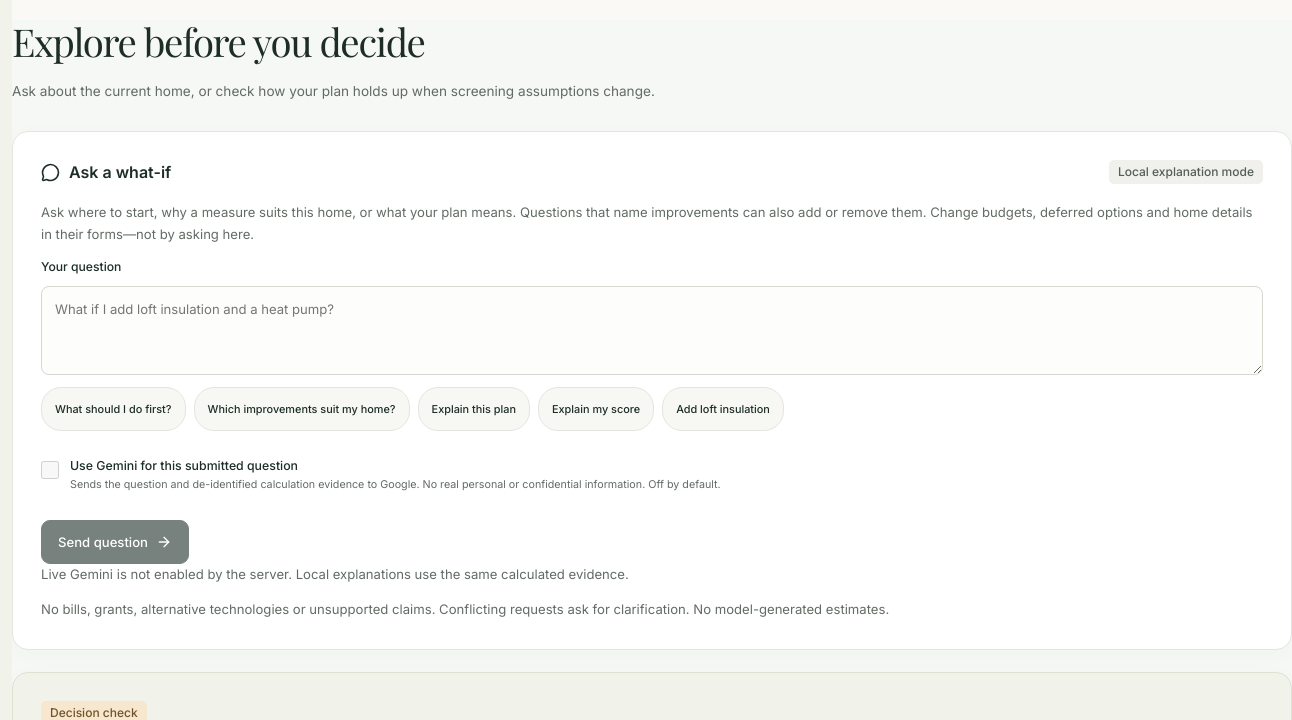
Test: bounded questions and decision check › makes no request on mount or by merely choosing an example
Click the button "Explain my score": coordinates (596, 409) x1=538 y1=387 x2=654 y2=431
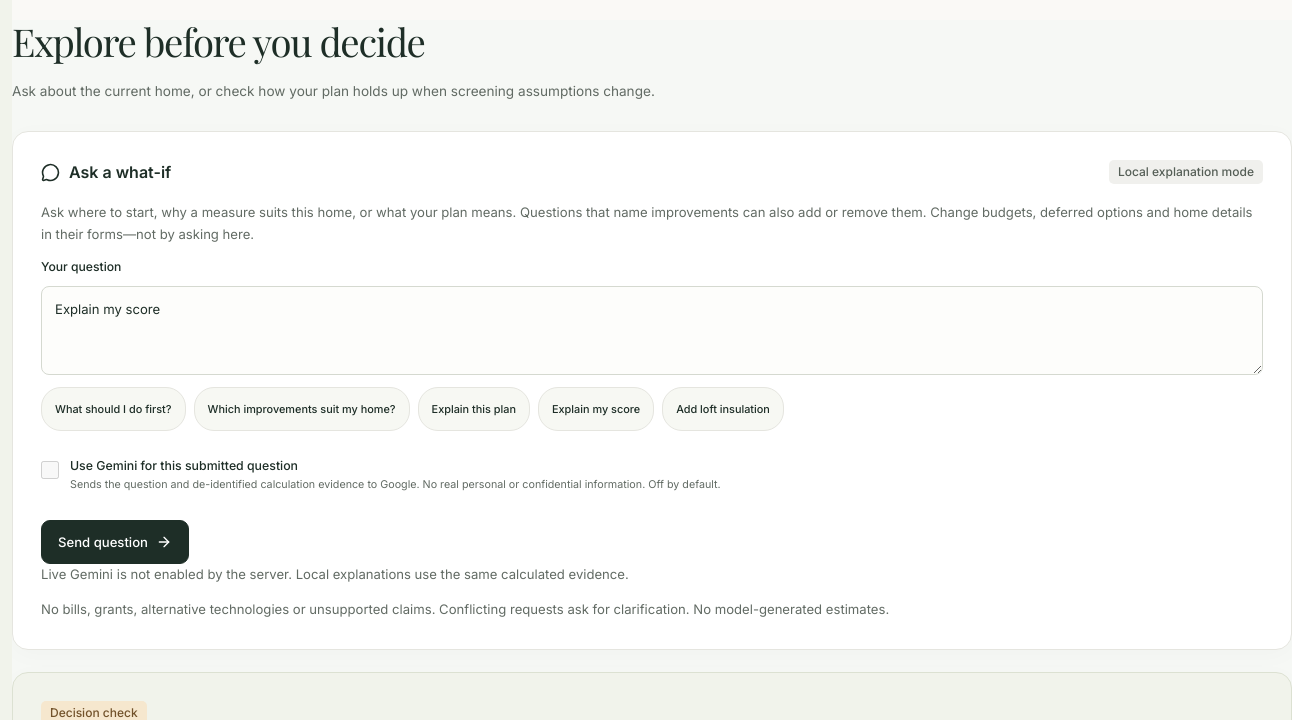
Expected: the text box labelled "Your question" holds "Explain my score", x1=41 y1=286 x2=1263 y2=375
